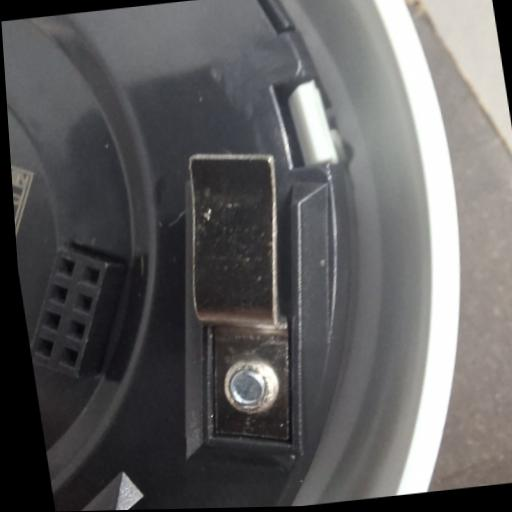yaysiz: (164, 147, 319, 452)
